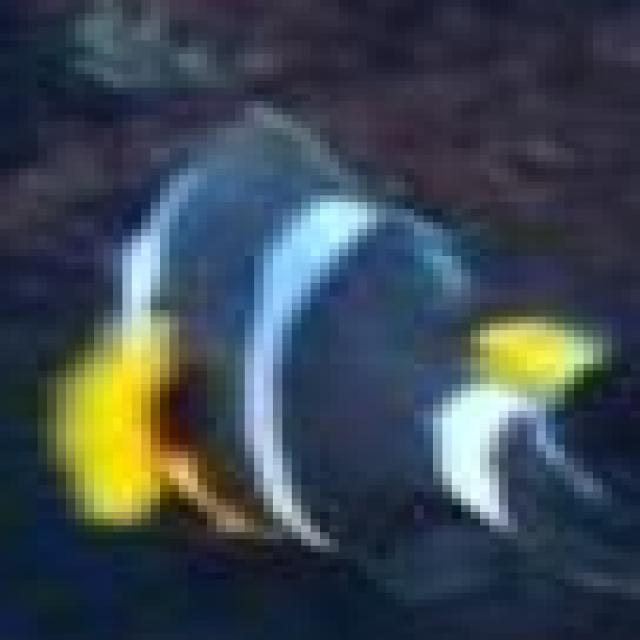fish: (1, 6, 631, 640)
